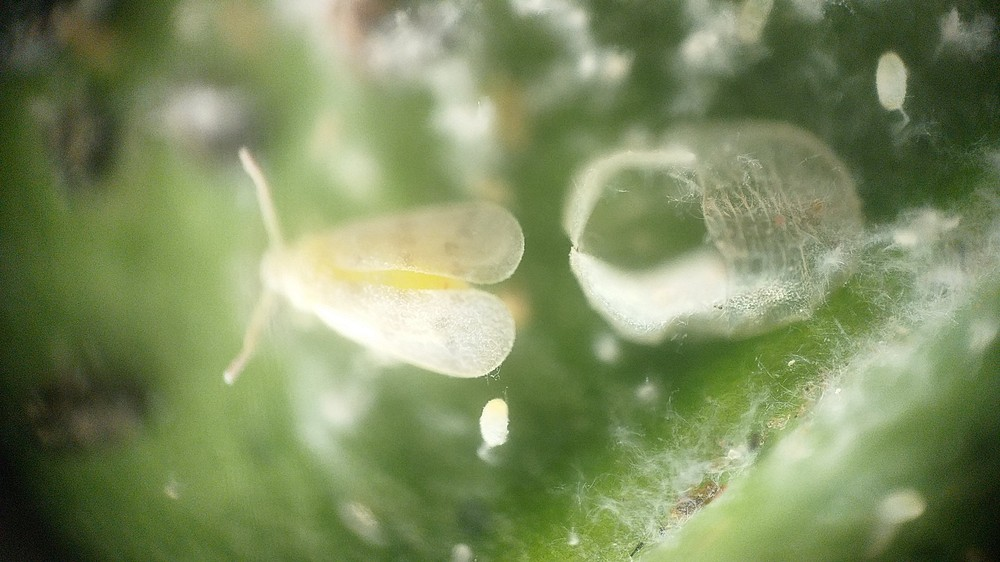Mosca Blanca: (199, 131, 569, 428)
